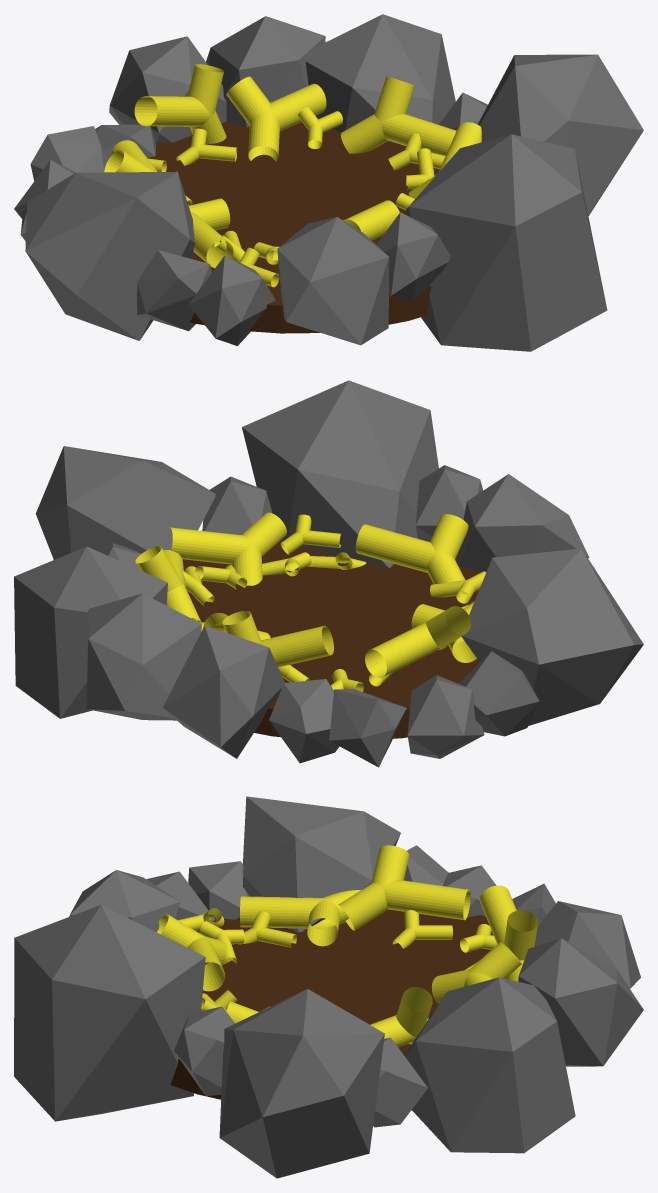
The model's file is MouseNest3.fbx.
3 views of the same model, one above another, from view 1: azimuth 30°, elevation 25°; view 2: azimuth 150°, elevation 25°; view 3: azimuth 270°, elevation 25° (orthographic).
Parts seen in each view (by area): view 1: Wye Joint.014; view 2: Wye Joint.014; view 3: Wye Joint.014.
Boxes of the visible parts, x1,y1,x2,y2 form: Wye Joint.014: (14, 14, 643, 351); Wye Joint.014: (14, 380, 643, 767); Wye Joint.014: (14, 796, 643, 1178).
Size of the model in its own units: 133 by 119 by 43.76.
